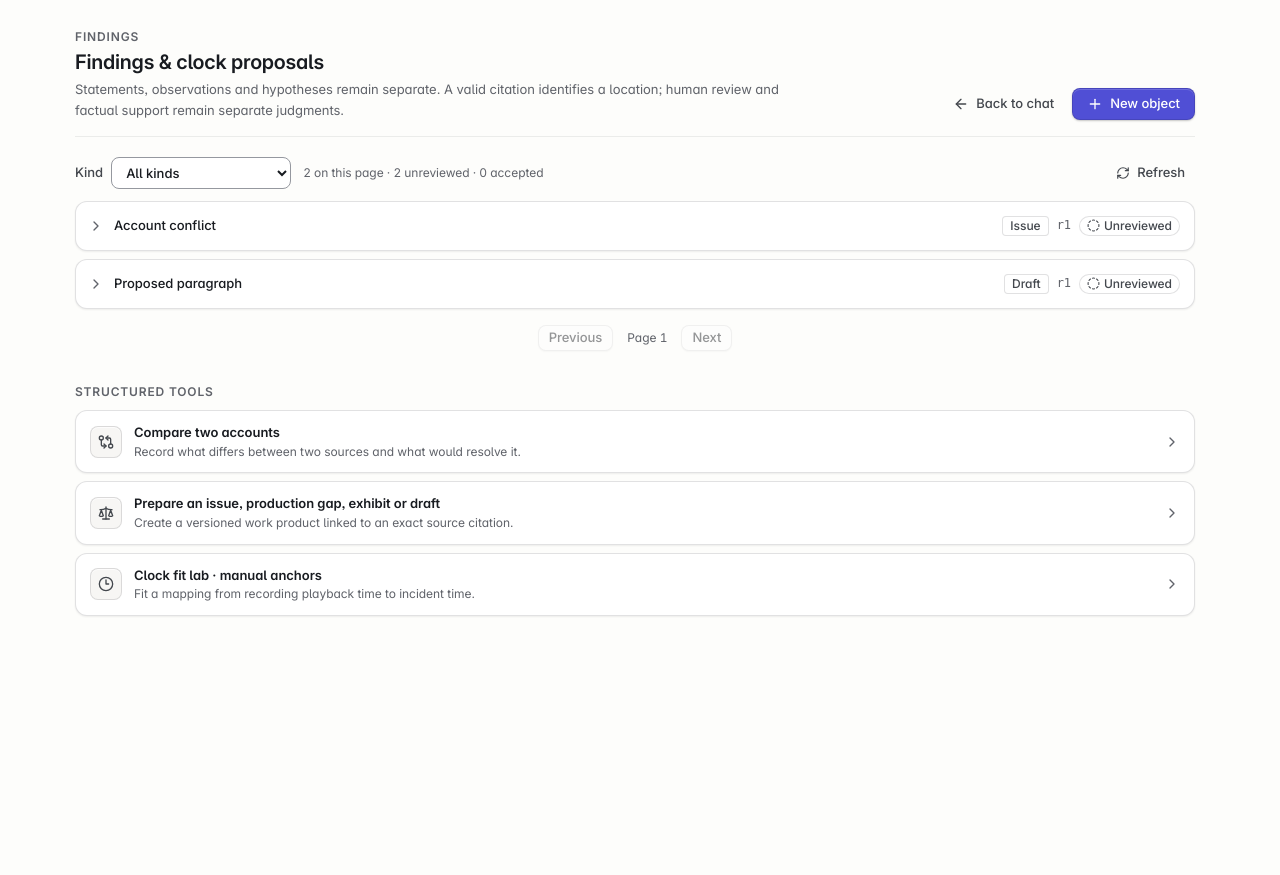
shows saved comparison and work product fields while keeping provenance available
Click the text "Account conflict" at (165, 225), box x1=114 y1=217 x2=216 y2=233
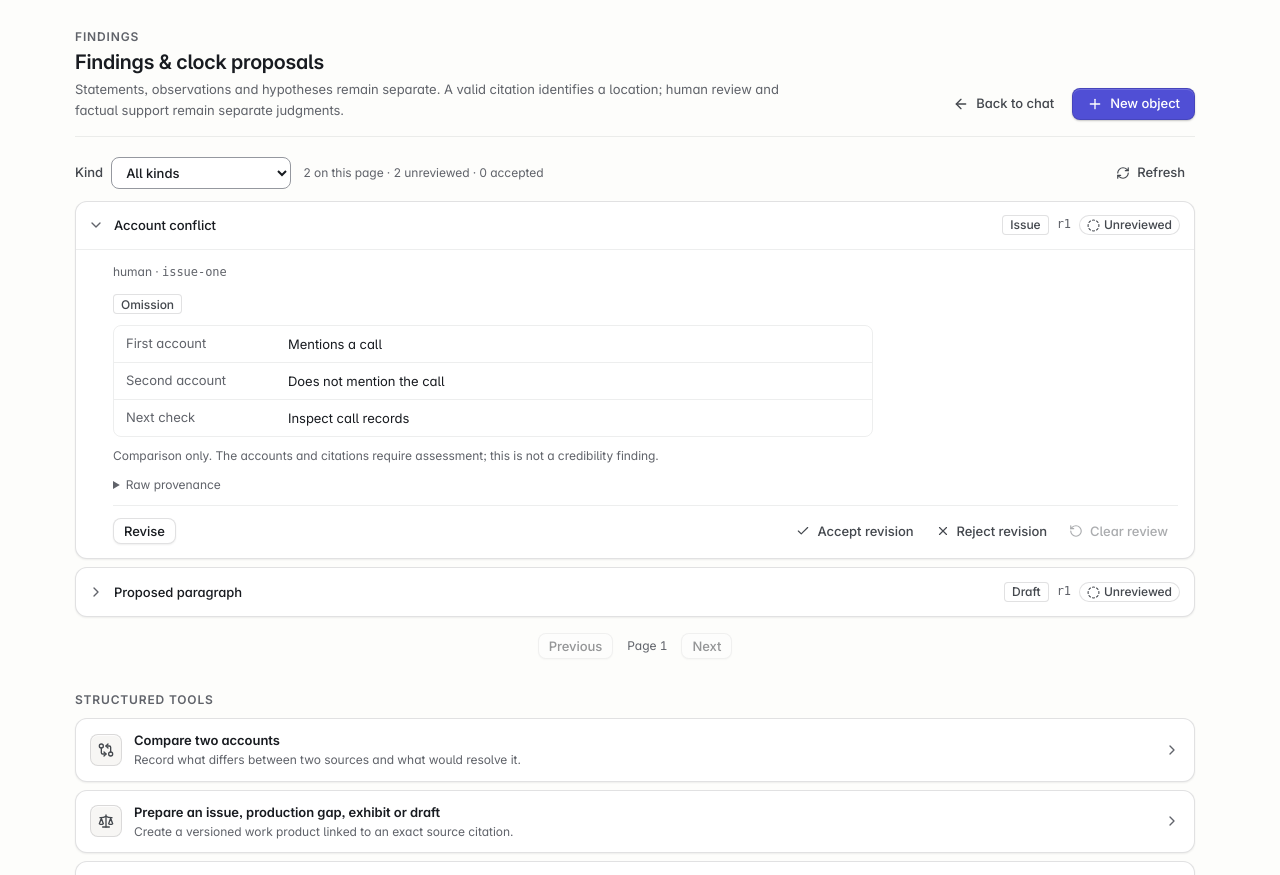
Expected: the text "Inspect call records" is shown, x1=288 y1=410 x2=409 y2=426
Click the text "Proposed paragraph" at (178, 592), box x1=114 y1=584 x2=242 y2=600
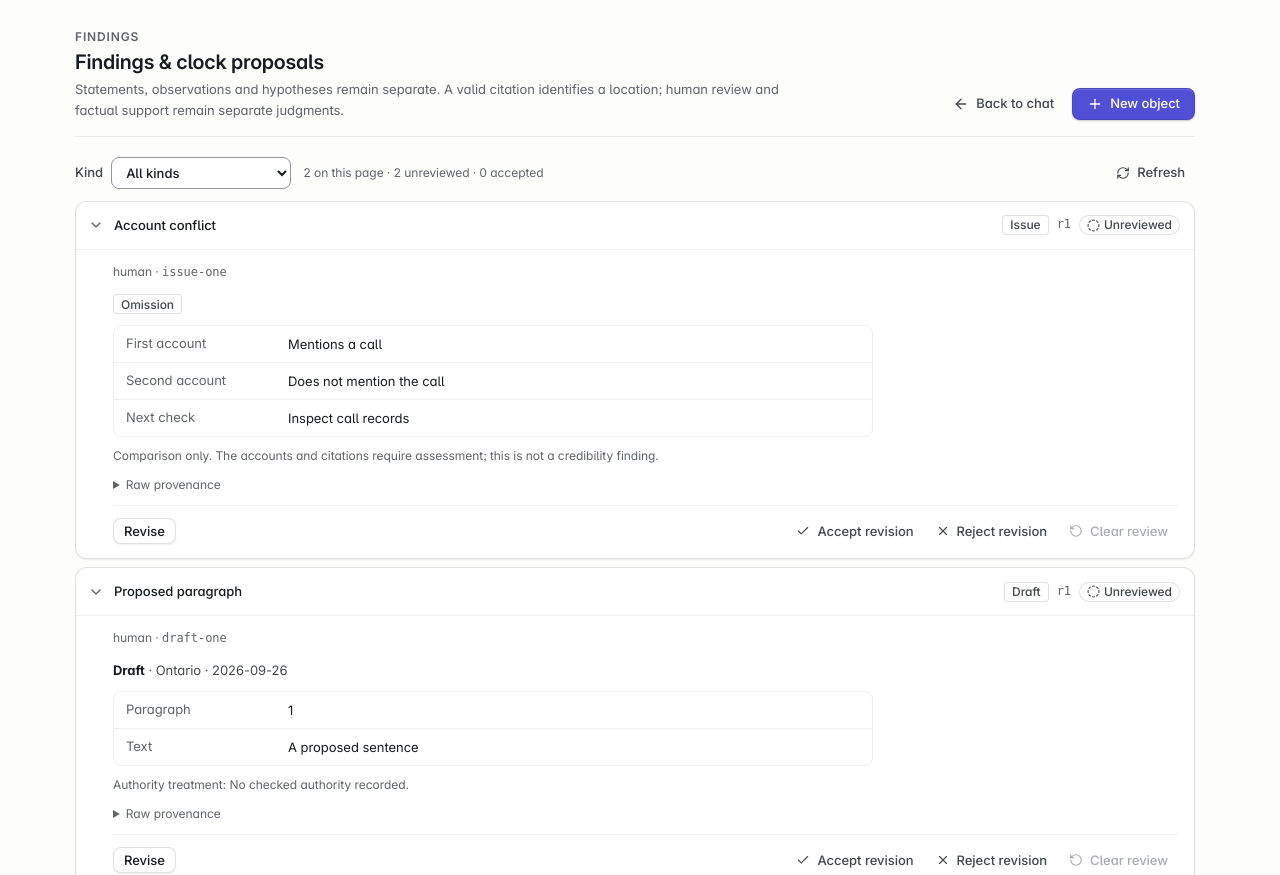
Expected: the text "A proposed sentence" is shown, x1=288 y1=739 x2=419 y2=755
Expected: the number of headings "Raw provenance" is 2, x1=113 y1=476 x2=221 y2=493; x1=113 y1=805 x2=221 y2=822
